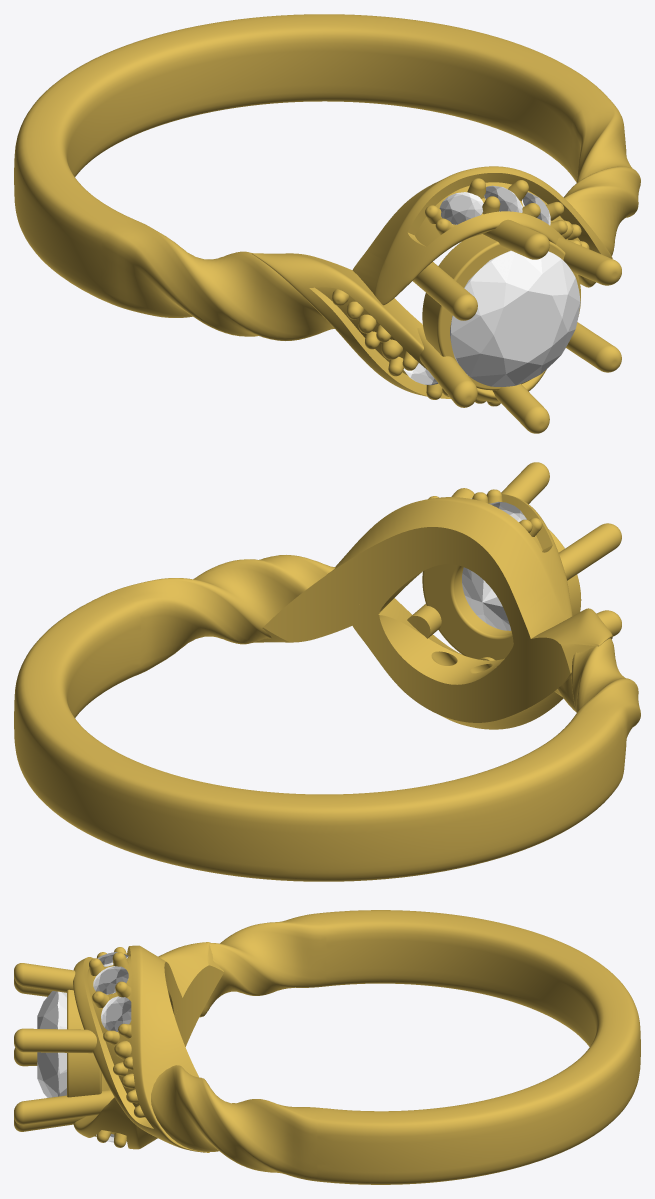
File: ring2.glb
The picture shows the model from 3 angles, top to bottom: view 1: azimuth 30°, elevation 25°; view 2: azimuth 150°, elevation 25°; view 3: azimuth 270°, elevation 25°; orthographic projection. The views are drawn at different scales.
Parts seen in each view (by area): view 1: _22, Diamond_Round_38, _21, _23, _6, Head Prong_3, Head Prong_2, Head Prong_1, Head Prong_5, Head Prong_4, Head Prong_0, Diamond_Round_41 (+1 smaller); view 2: _22, _21, _23, _6, Head Prong_2, Diamond_Round_38, Head Prong_0, Head Prong_4; view 3: _22, _21, _23, Diamond_Round_38, Head Prong_4, Head Prong_1, _6, Head Prong_0, Diamond_Round_39, Diamond_Round_40, Head Prong_5.
Part boxes in pixels (x1=…): _22: x1=14, y1=14, x2=640, y2=340; Diamond_Round_38: x1=450, y1=250, x2=580, y2=386; _21: x1=352, y1=166, x2=612, y2=305; _23: x1=252, y1=253, x2=546, y2=402; _6: x1=422, y1=234, x2=580, y2=390; Head Prong_3: x1=417, y1=327, x2=477, y2=407; Head Prong_2: x1=413, y1=262, x2=477, y2=320; Head Prong_1: x1=556, y1=237, x2=621, y2=285; Head Prong_5: x1=492, y1=384, x2=549, y2=433; Head Prong_4: x1=566, y1=322, x2=621, y2=372; Head Prong_0: x1=483, y1=219, x2=549, y2=259; Diamond_Round_41: x1=439, y1=192, x2=483, y2=224; _22: x1=14, y1=555, x2=640, y2=881; _21: x1=254, y1=494, x2=572, y2=660; _23: x1=350, y1=598, x2=612, y2=729; _6: x1=422, y1=529, x2=581, y2=660; Head Prong_2: x1=559, y1=523, x2=621, y2=580; Diamond_Round_38: x1=462, y1=527, x2=577, y2=630; Head Prong_0: x1=501, y1=462, x2=549, y2=503; Head Prong_4: x1=407, y1=604, x2=441, y2=638; _22: x1=151, y1=910, x2=640, y2=1184; _21: x1=73, y1=945, x2=209, y2=1152; _23: x1=73, y1=942, x2=224, y2=1149; Diamond_Round_38: x1=37, y1=991, x2=66, y2=1097; Head Prong_4: x1=14, y1=1090, x2=114, y2=1124; Head Prong_1: x1=14, y1=1028, x2=96, y2=1053; _6: x1=67, y1=989, x2=101, y2=1097; Head Prong_0: x1=14, y1=963, x2=75, y2=992; Diamond_Round_39: x1=101, y1=996, x2=131, y2=1031; Diamond_Round_40: x1=93, y1=966, x2=128, y2=994; Head Prong_5: x1=14, y1=1116, x2=85, y2=1131.
Bounding box in the file's own units: 20.76 × 8.29 × 24.96.
